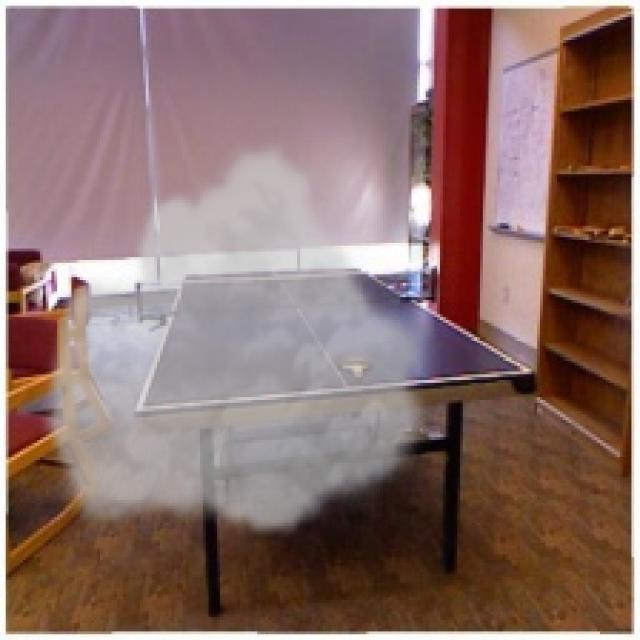Smoke: (37, 137, 437, 540)
